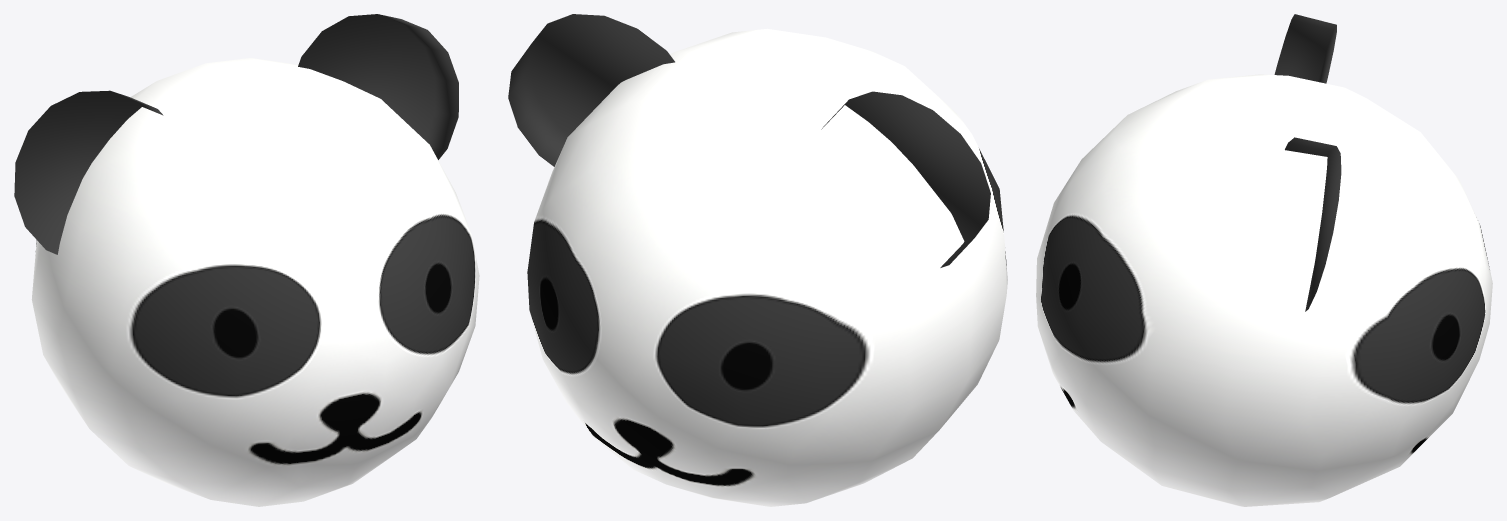
File: white_panda.glb
3 views of the same model, side by side, from view 1: azimuth 30°, elevation 25°; view 2: azimuth 150°, elevation 25°; view 3: azimuth 270°, elevation 25° (orthographic). The views are drawn at different scales.
Visible parts, largest first — view 1: White_Panda; view 2: White_Panda; view 3: White_Panda.
Boxes of the visible parts, x1,y1,x2,y2 form: White_Panda: (14,14,479,506); White_Panda: (508,14,1007,506); White_Panda: (1036,14,1492,506).
Bounding box in the file's own units: 0.5933 × 0.5517 × 0.5585.
1 material, 1 textured.
